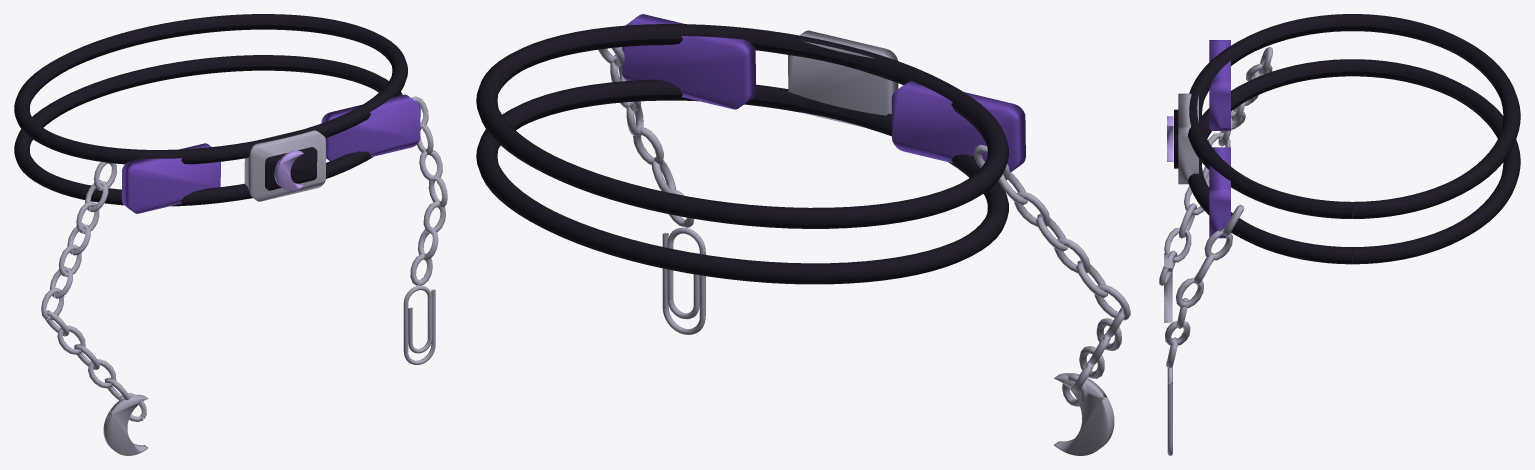
File: echo_belt_and_charms.glb
3 views of the same model, side by side, from view 1: azimuth 30°, elevation 25°; view 2: azimuth 150°, elevation 25°; view 3: azimuth 270°, elevation 25° (orthographic). The views are drawn at different scales.
Visible parts, largest first — view 1: echo_belt_and_charms; view 2: echo_belt_and_charms; view 3: echo_belt_and_charms.
Part boxes in pixels (<box>): echo_belt_and_charms: <box>14,14,447,455</box>; echo_belt_and_charms: <box>476,14,1130,455</box>; echo_belt_and_charms: <box>1159,14,1520,455</box>.
Size of the model in its own units: 0.4804 by 0.3026 by 0.3332.
